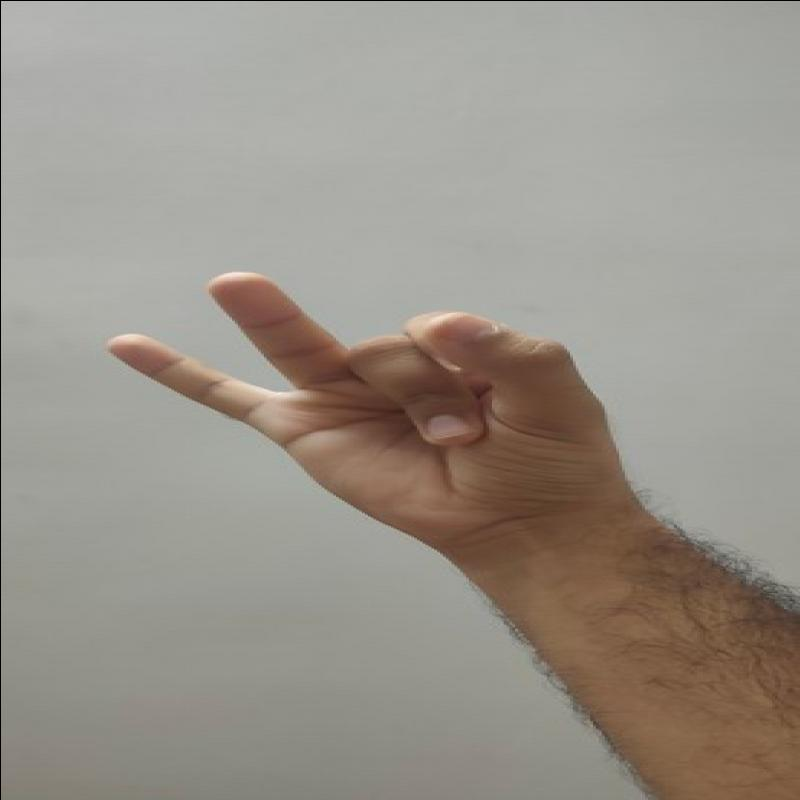Katakam: (95, 253, 643, 551)
